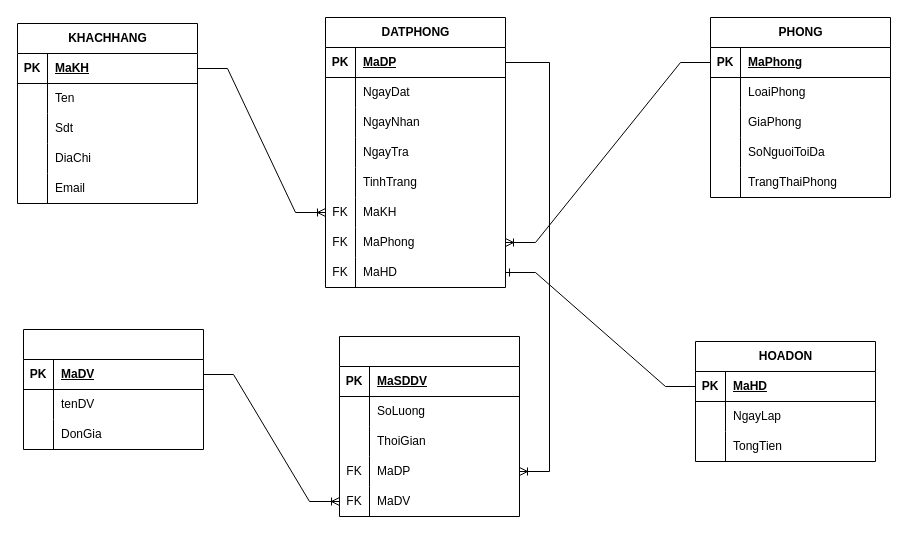
Image size: 908x534. Some labels were removed from this diagram. Each missing label, with the box of its shape:
DICHVU: (22, 328, 204, 450)
SUDUNGDICHVU: (338, 336, 520, 516)
